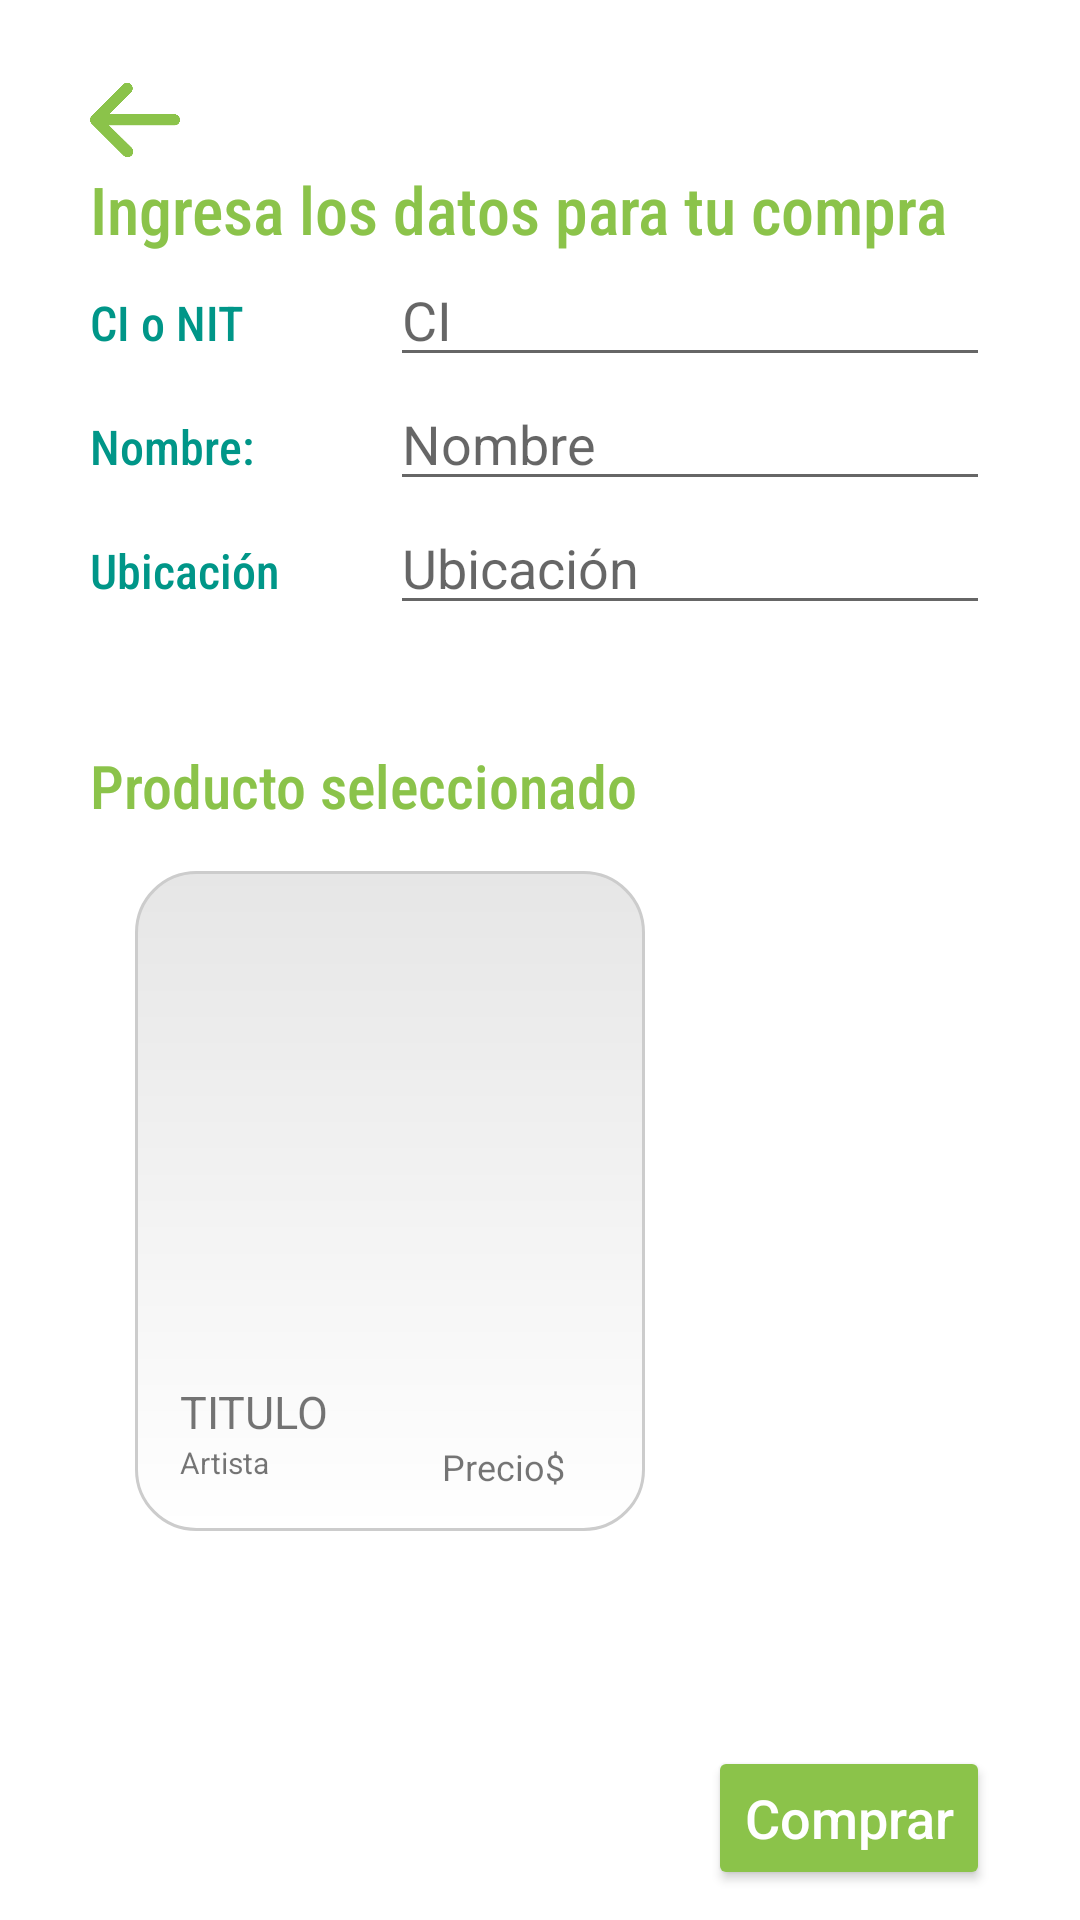

Icons on this 1080×1920 Android screen, each with its box as (x1, y1, x2, y2):
flecha: (90, 83, 180, 157)
